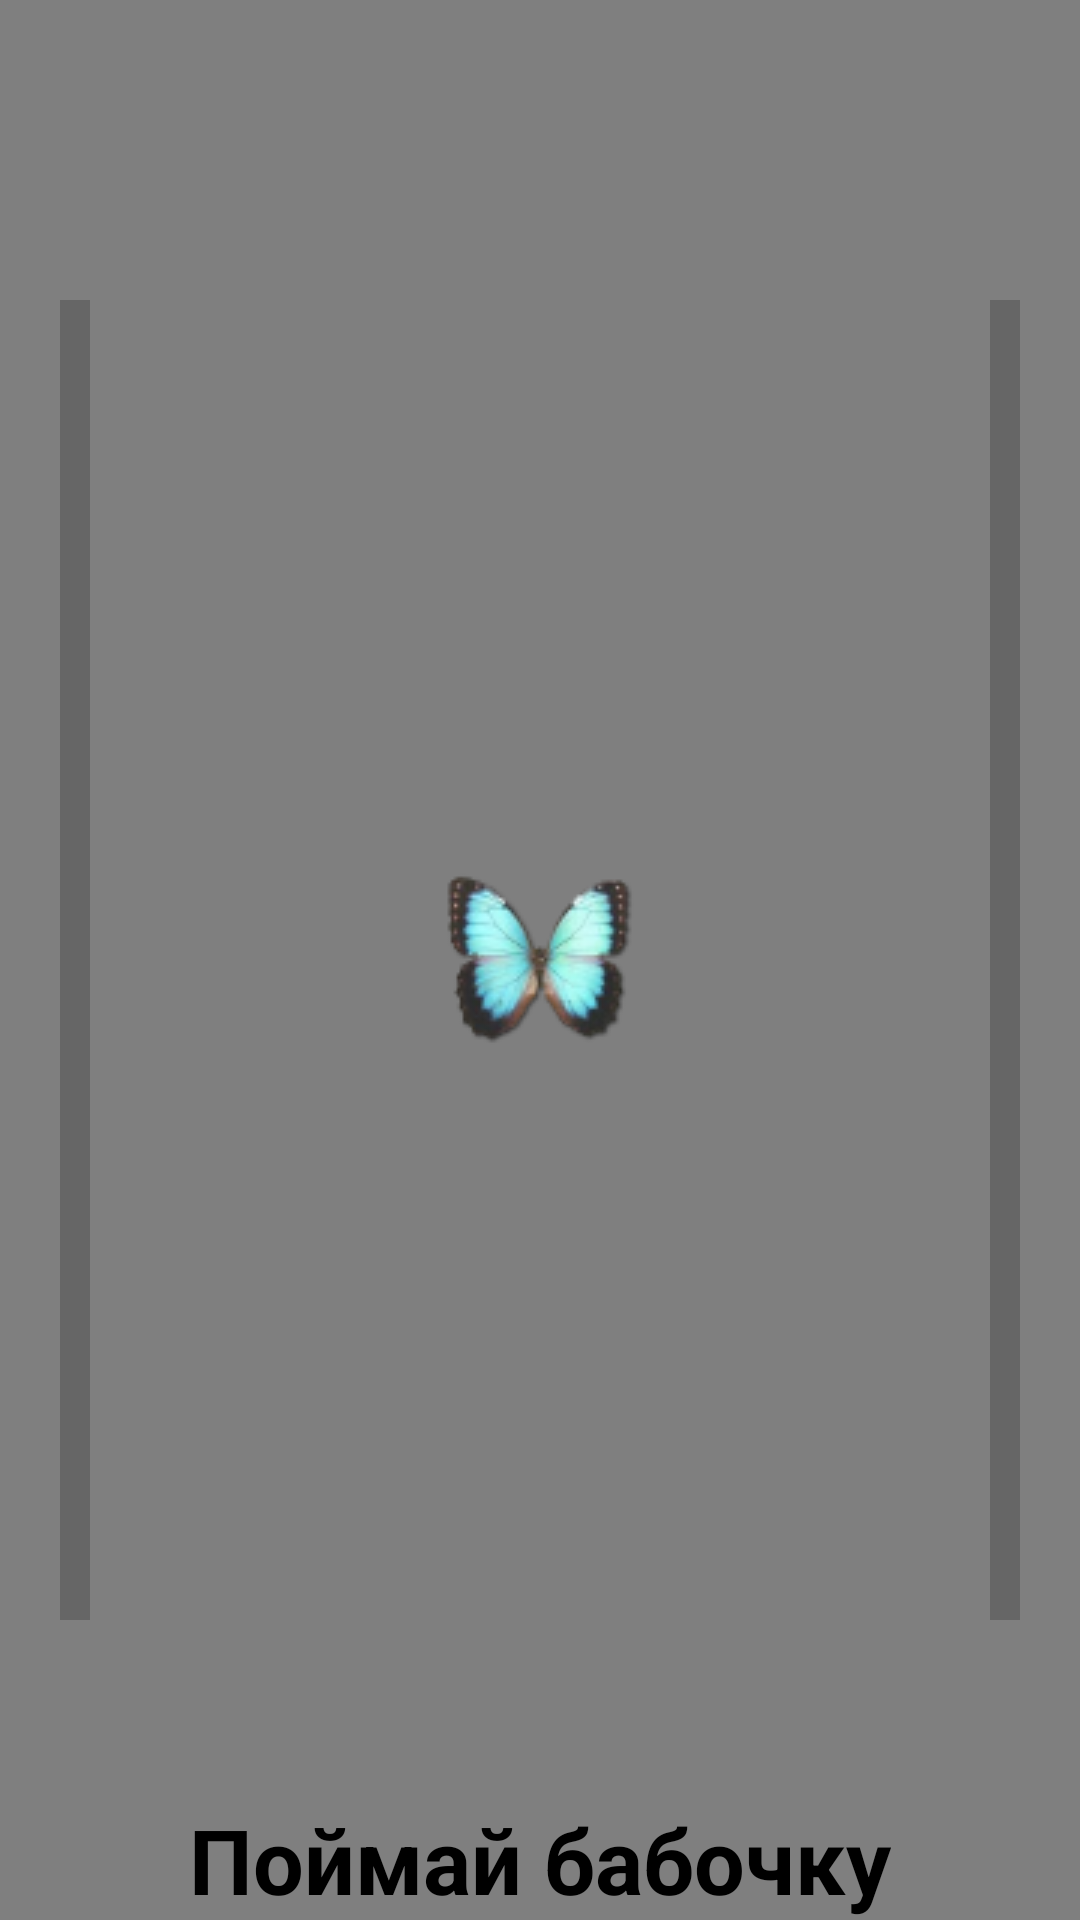

Icons on this 1080 x 1920 Android screen, each with the point to tap as [x,y]:
butterfly: [539,959]
